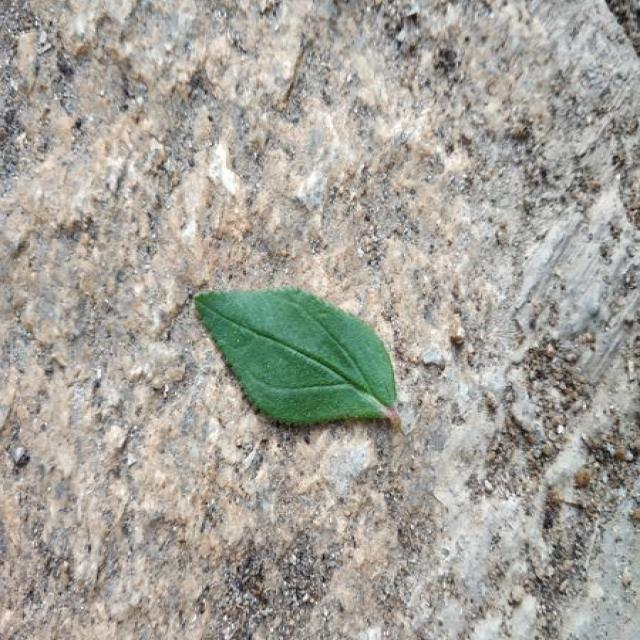Astma_weed: (195, 288, 398, 424)
